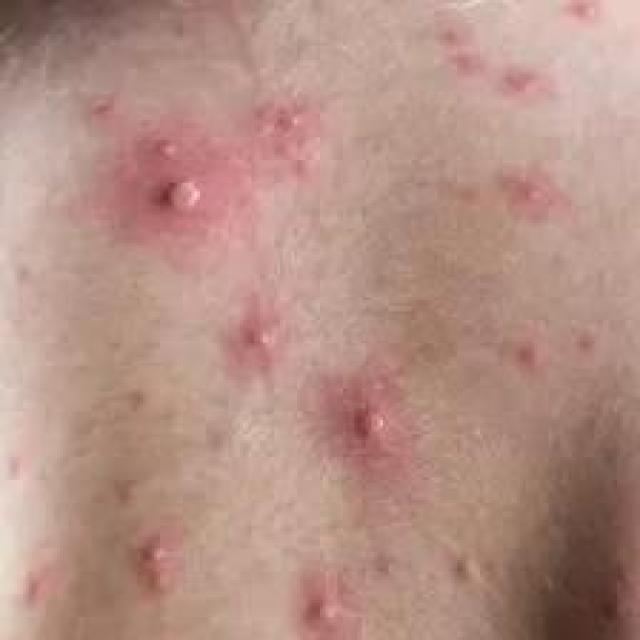others: (24, 48, 640, 640)
